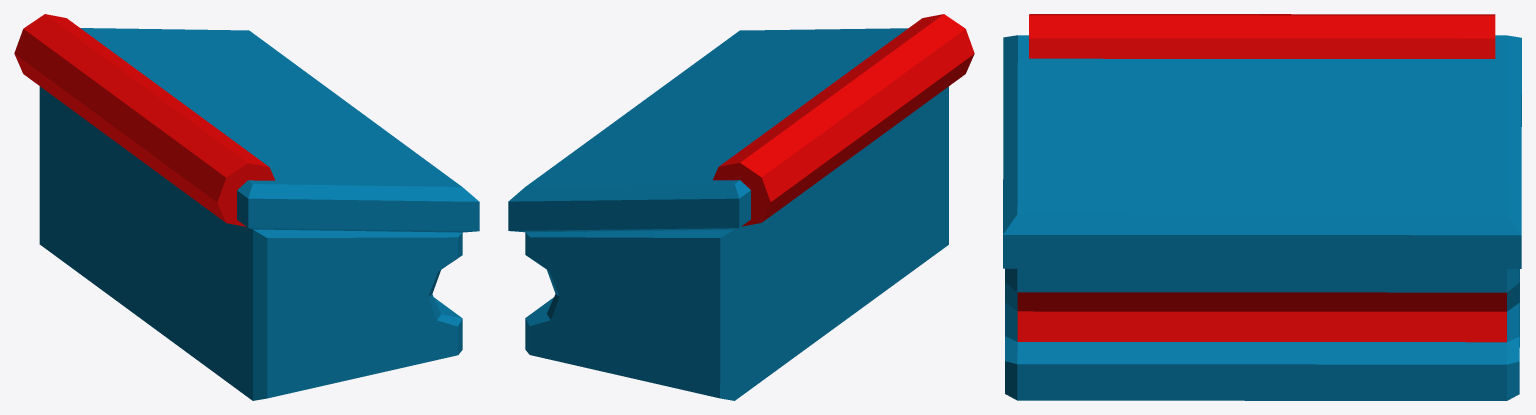
File: Container.fbx
The picture shows the model from 3 angles, left to right: view 1: azimuth 30°, elevation 25°; view 2: azimuth 150°, elevation 25°; view 3: azimuth 270°, elevation 25°; orthographic projection. The views are drawn at different scales.
Visible parts, largest first — view 1: Container; view 2: Container; view 3: Container.
Boxes of the visible parts, x1=… form: Container: x1=14, y1=14, x2=479, y2=400; Container: x1=508, y1=14, x2=974, y2=400; Container: x1=1003, y1=14, x2=1521, y2=400.
Bounding box in the file's own units: 3.26 × 2.9 × 5.09.
